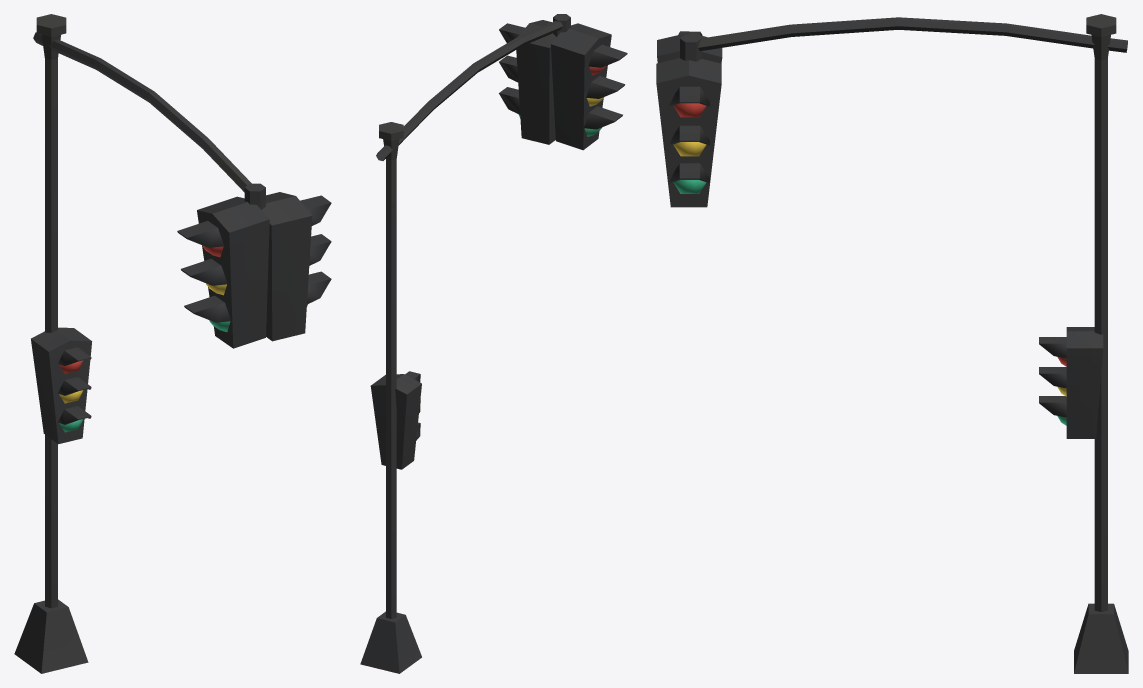
Rendered from dengiaothong.fbx.
3 views of the same model, side by side, from view 1: azimuth 30°, elevation 25°; view 2: azimuth 150°, elevation 25°; view 3: azimuth 270°, elevation 25° (orthographic). The views are drawn at different scales.
Parts seen in each view (by area): view 1: dengiaothong; view 2: dengiaothong; view 3: dengiaothong.
Part boxes in pixels (box(x1,y1,x2,y2)): dengiaothong: box(14, 14, 331, 673); dengiaothong: box(360, 14, 627, 673); dengiaothong: box(656, 14, 1128, 673).
Size of the model in its own units: 89.33 by 379 by 252.
